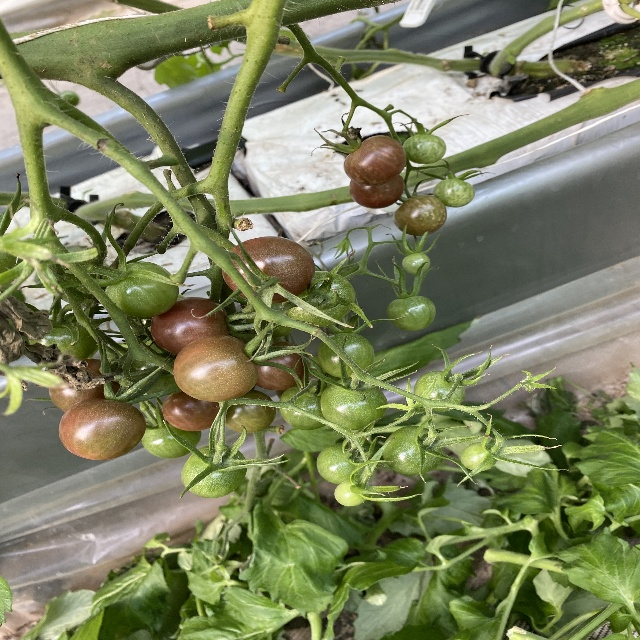l_fully_ripened: (150, 297, 231, 355), (349, 174, 406, 209)
l_green: (281, 270, 356, 327), (104, 261, 179, 317), (320, 377, 389, 431), (181, 444, 248, 498), (28, 316, 102, 364), (117, 344, 181, 398), (381, 426, 446, 475), (316, 333, 375, 378), (279, 385, 329, 430), (142, 421, 201, 459), (412, 371, 465, 412), (317, 443, 368, 484), (385, 295, 437, 332), (402, 134, 448, 163), (431, 177, 474, 208), (459, 442, 501, 472), (334, 479, 371, 507), (400, 253, 431, 276)
l_half_ripened: (220, 235, 315, 303), (173, 335, 259, 402), (58, 399, 147, 461), (49, 358, 137, 412), (342, 135, 410, 187), (255, 340, 310, 391), (161, 390, 221, 432), (393, 194, 447, 236), (226, 389, 277, 433)
